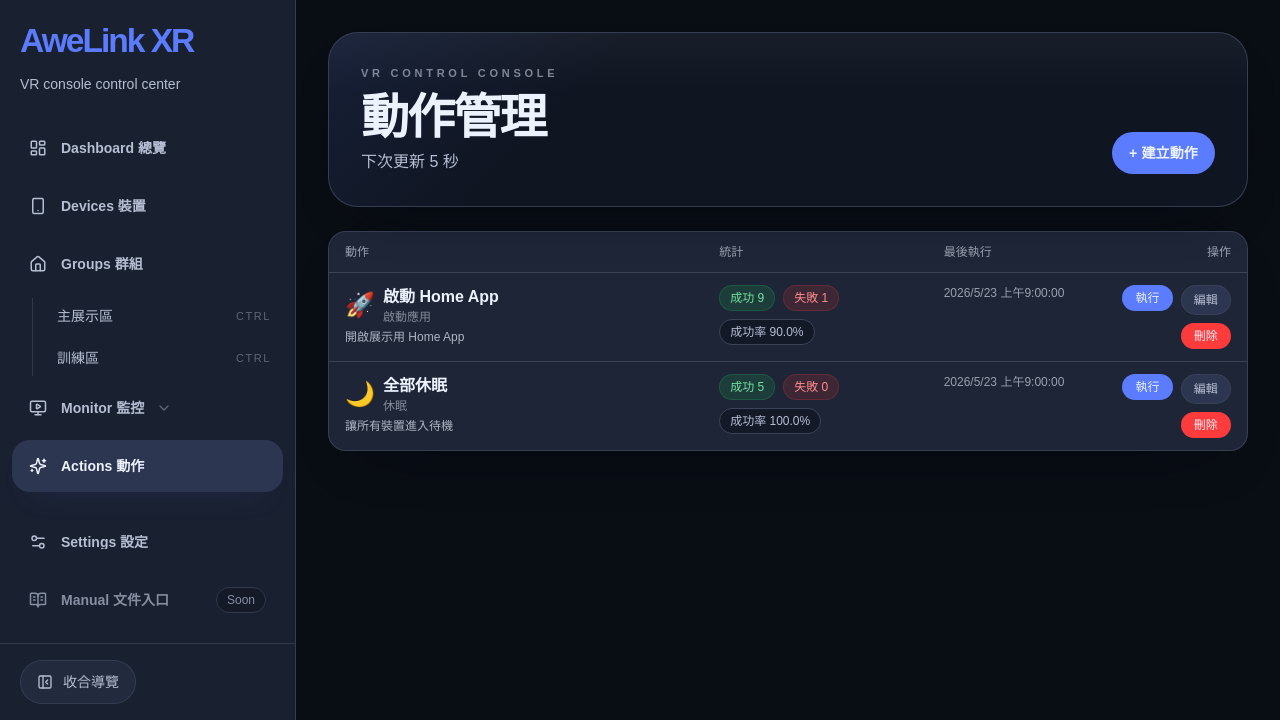
Test case: ActionsPage › opens the execute modal from the mocked action list
Expected: the heading "動作管理" is shown, left=361, top=94, right=558, bottom=142
Expected: the text "啟動 Home App" is shown, left=383, top=284, right=499, bottom=308
Click the button "執行" in the row of "啟動 Home App". click: (1148, 298)
box: left=1122, top=284, right=1173, bottom=310
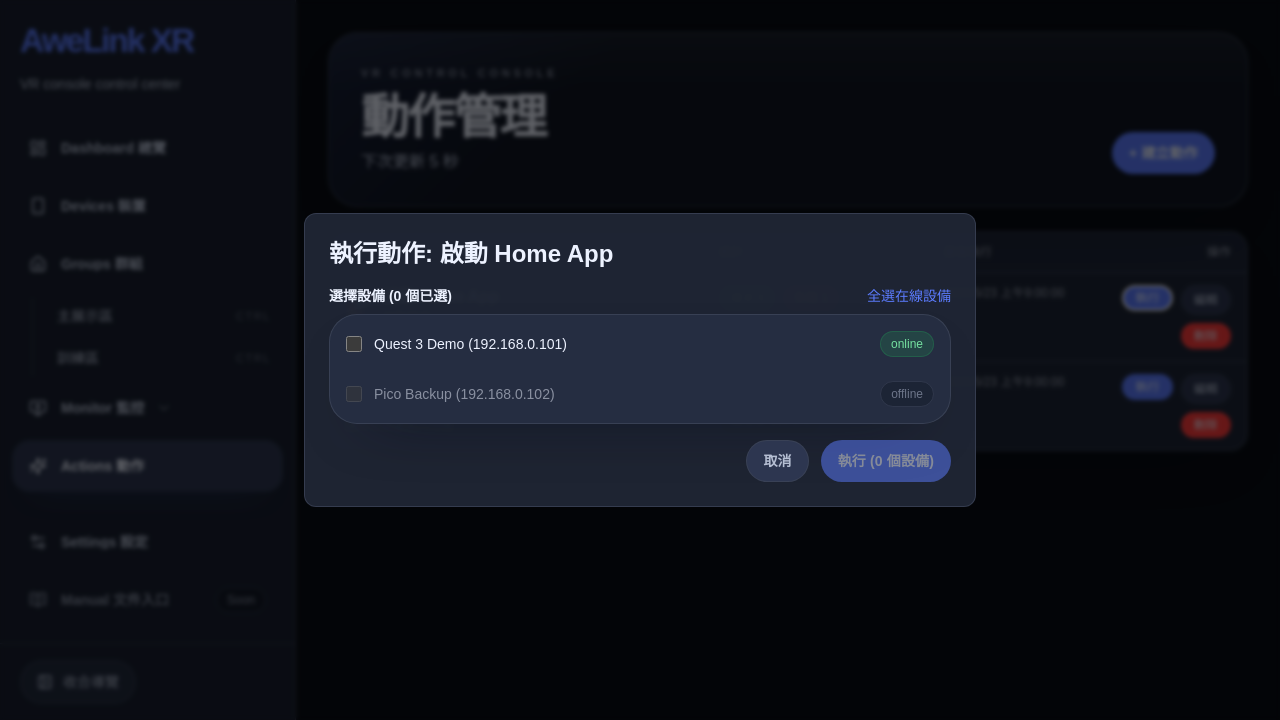
Expected: the heading "執行動作: 啟動 Home App" is shown, left=329, top=240, right=613, bottom=267
Expected: the text "選擇設備 (0 個已選)" is shown, left=329, top=286, right=452, bottom=306
